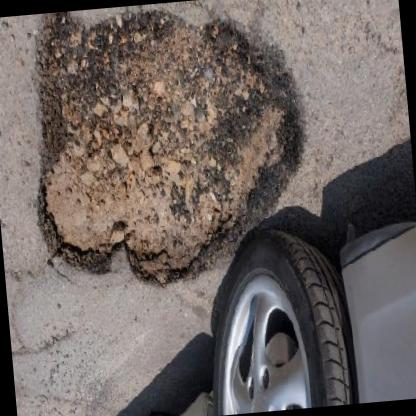pothole: (18, 0, 317, 300)
